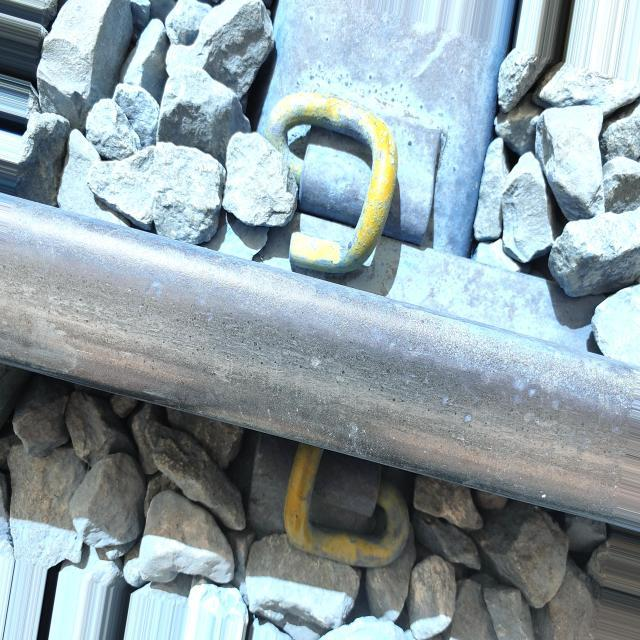Good Fasteners: (257, 2, 504, 272), (231, 431, 411, 568)
